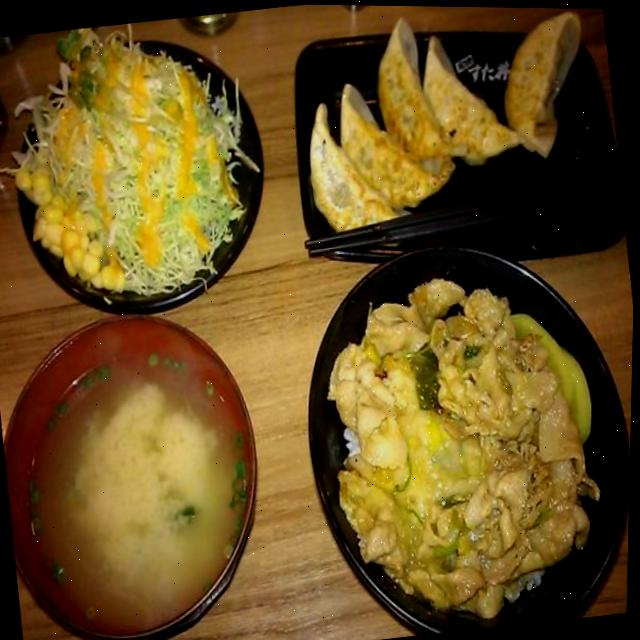带馅早点: (272, 3, 629, 282)
汤锅炖物: (0, 291, 282, 640)
蔬菜料理: (0, 18, 282, 325)
